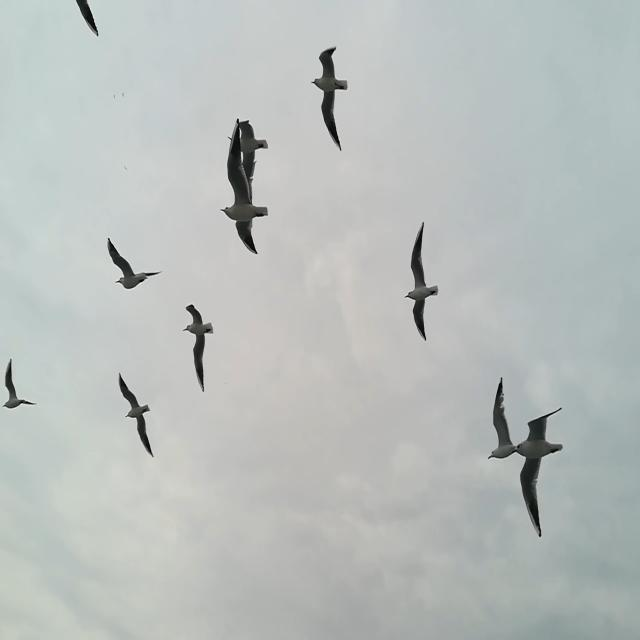bird: (513, 407, 564, 541), (220, 119, 270, 255), (402, 222, 441, 341), (310, 43, 349, 150), (227, 118, 270, 208), (105, 237, 164, 290), (118, 373, 154, 456), (182, 301, 214, 391), (486, 376, 519, 463), (0, 359, 39, 410), (74, 0, 99, 38), (123, 163, 128, 172), (112, 93, 116, 100), (121, 92, 125, 98)
